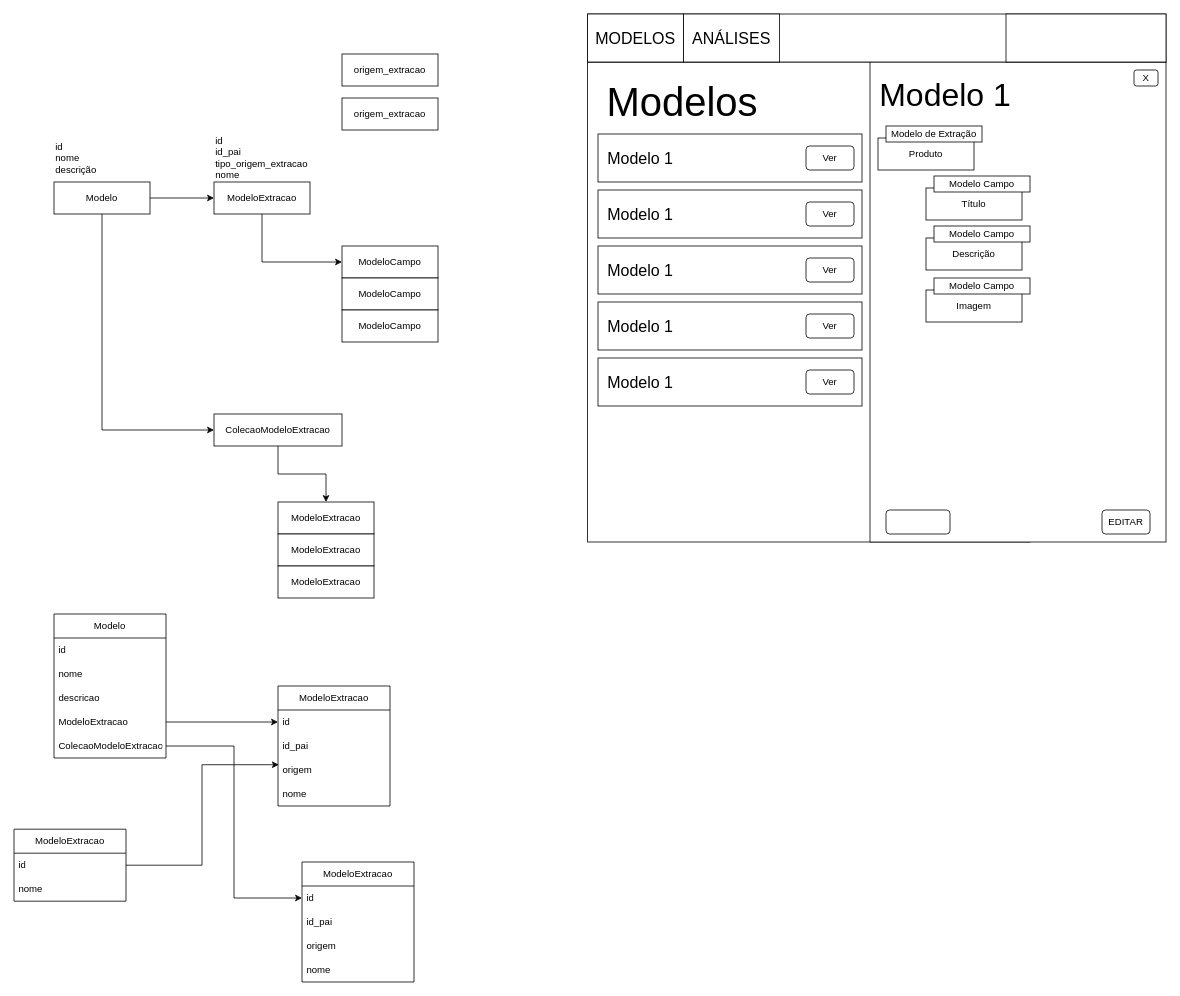
The diagram is 1180 pixels wide and 996 high, and some of its shapes have lost their labels. The shapes that lost their labels are listed below. From the top down, each one's box as (x1, y1, x2, y2) in pixels, then its label:
(1005, 13, 1166, 62): CONFIGURAÇÕES
(885, 509, 950, 534): REMOVER
